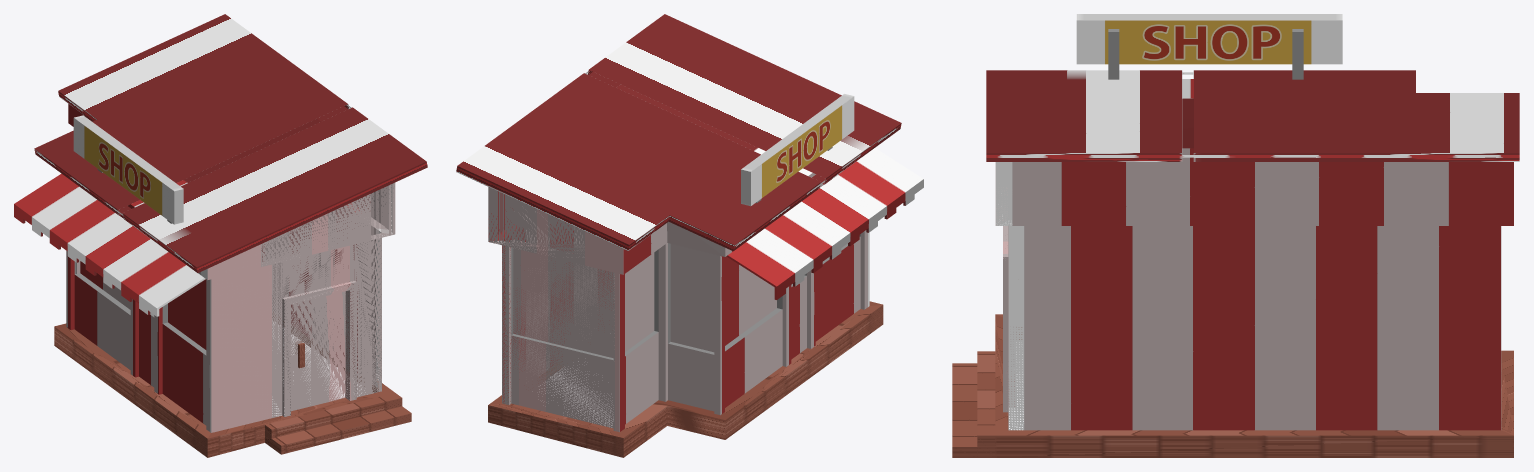
File: shop_1.FBX
3 views of the same model, side by side, from view 1: azimuth 30°, elevation 25°; view 2: azimuth 150°, elevation 25°; view 3: azimuth 270°, elevation 25° (orthographic). The views are drawn at different scales.
Visible parts, largest first — view 1: Box1523, Box1519, shop_floor_003, Box1520, shop_front_sides_003, shop_underroof_003, shop_door_003, Box1521, shop_doorframe_003, shop_windows_003, shop_over_windows_003; view 2: Box1523, shop_front_sides_003, shop_windows_003, Box1520, shop_floor_003, Box1519, shop_underroof_003, Box1521, shop_over_windows_003; view 3: Box1519, Box1523, shop_underroof_003, shop_floor_003, Box1521, Box1522, shop_doorframe_003.
Boxes of the visible parts, x1=… form: Box1523: x1=34, y1=14, x2=427, y2=272; Box1519: x1=66, y1=118, x2=381, y2=432; shop_floor_003: x1=54, y1=312, x2=411, y2=457; Box1520: x1=14, y1=173, x2=205, y2=316; shop_front_sides_003: x1=74, y1=275, x2=206, y2=425; shop_underroof_003: x1=68, y1=104, x2=395, y2=279; shop_door_003: x1=285, y1=287, x2=345, y2=411; Box1521: x1=73, y1=115, x2=183, y2=224; shop_doorframe_003: x1=282, y1=280, x2=356, y2=416; shop_windows_003: x1=77, y1=260, x2=206, y2=349; shop_over_windows_003: x1=74, y1=262, x2=206, y2=355; Box1523: x1=456, y1=14, x2=901, y2=251; shop_front_sides_003: x1=511, y1=237, x2=860, y2=428; shop_windows_003: x1=513, y1=244, x2=776, y2=358; Box1520: x1=726, y1=148, x2=923, y2=299; shop_floor_003: x1=488, y1=301, x2=883, y2=457; Box1519: x1=502, y1=85, x2=869, y2=432; shop_underroof_003: x1=488, y1=173, x2=823, y2=274; Box1521: x1=741, y1=93, x2=854, y2=206; shop_over_windows_003: x1=511, y1=234, x2=860, y2=360; Box1519: x1=1003, y1=79, x2=1501, y2=430; Box1523: x1=986, y1=70, x2=1519, y2=161; shop_underroof_003: x1=995, y1=148, x2=1513, y2=225; shop_floor_003: x1=952, y1=314, x2=1513, y2=457; Box1521: x1=1076, y1=14, x2=1342, y2=64; Box1522: x1=1108, y1=29, x2=1303, y2=79; shop_doorframe_003: x1=1003, y1=226, x2=1015, y2=412.
Size of the model in its own units: 12.29 by 11.05 by 17.42.
Materials: 13 (11 with a texture image).
